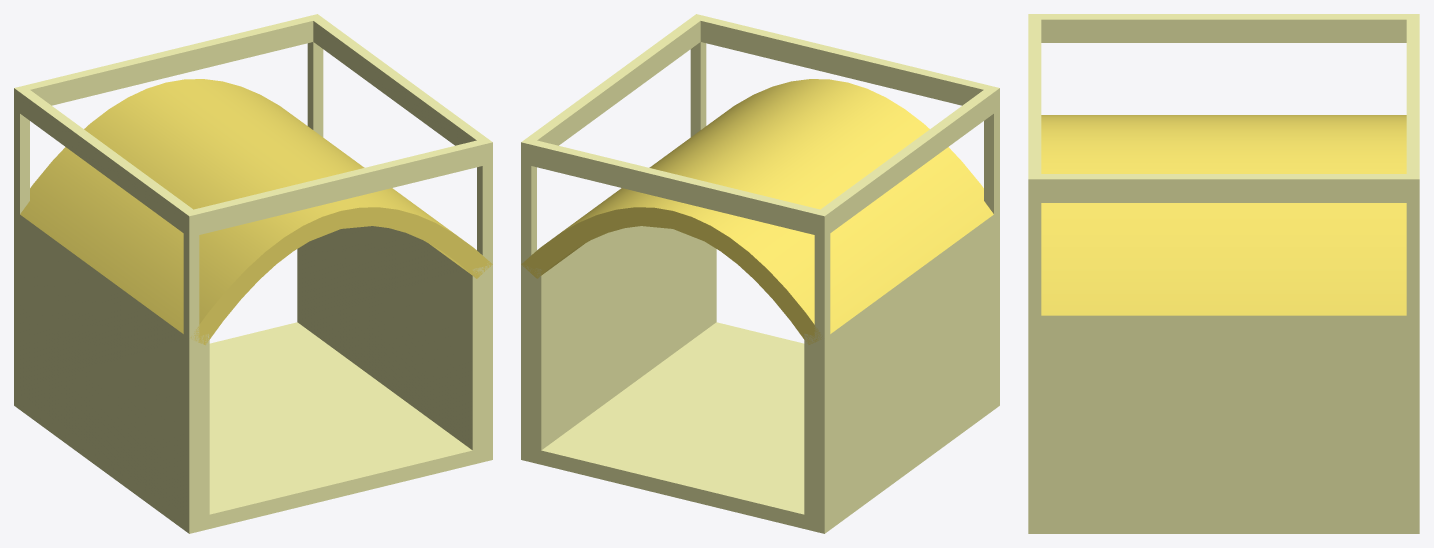
3 views of the same model, side by side, from view 1: azimuth 30°, elevation 25°; view 2: azimuth 150°, elevation 25°; view 3: azimuth 270°, elevation 25° (orthographic). The views are drawn at different scales.
Visible parts, largest first — view 1: 物件_1, 物件_4, 物件_2, 物件_3, 物件_11, 物件_10, 物件_9, 物件_12, 物件_7, 物件_8, 物件_5, 物件_6; view 2: 物件_1, 物件_4, 物件_2, 物件_3, 物件_10, 物件_11, 物件_9, 物件_12, 物件_8, 物件_7, 物件_6, 物件_5; view 3: 物件_3, 物件_1, 物件_12, 物件_9, 物件_4, 物件_6, 物件_5, 物件_11, 物件_10.
Part boxes in pixels (<box>): 物件_1: <box>20,79,492,345</box>; 物件_4: <box>14,322,492,533</box>; 物件_2: <box>14,210,209,519</box>; 物件_3: <box>297,226,492,450</box>; 物件_11: <box>185,138,492,235</box>; 物件_10: <box>14,14,322,108</box>; 物件_9: <box>14,86,199,236</box>; 物件_12: <box>310,15,492,164</box>; 物件_7: <box>183,209,199,519</box>; 物件_8: <box>14,86,29,395</box>; 物件_5: <box>477,138,492,443</box>; 物件_6: <box>307,14,323,136</box>; 物件_1: <box>521,79,993,344</box>; 物件_4: <box>521,322,999,533</box>; 物件_2: <box>804,210,999,519</box>; 物件_3: <box>521,226,716,450</box>; 物件_10: <box>521,138,827,235</box>; 物件_11: <box>691,14,999,105</box>; 物件_9: <box>815,86,999,236</box>; 物件_12: <box>521,14,705,164</box>; 物件_8: <box>814,209,830,519</box>; 物件_7: <box>984,85,999,394</box>; 物件_6: <box>521,138,536,435</box>; 物件_5: <box>690,14,706,136</box>; 物件_3: <box>1028,315,1419,517</box>; 物件_1: <box>1041,115,1406,315</box>; 物件_12: <box>1029,174,1419,202</box>; 物件_9: <box>1028,14,1419,42</box>; 物件_4: <box>1028,518,1419,533</box>; 物件_6: <box>1406,174,1419,517</box>; 物件_5: <box>1028,174,1041,517</box>; 物件_11: <box>1028,16,1041,202</box>; 物件_10: <box>1406,14,1419,202</box>.
Bounding box in the file's own units: 48 × 48 × 48.
